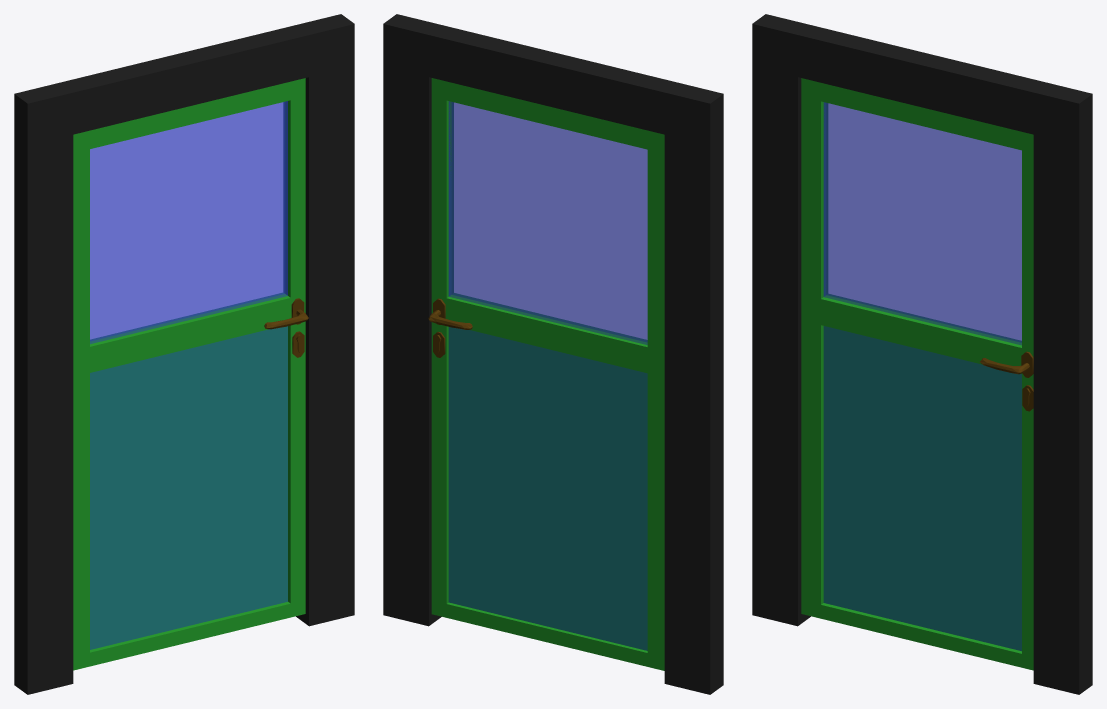
Rendered from DoorAnim.FBX.
3 views of the same model, side by side, from view 1: azimuth 30°, elevation 25°; view 2: azimuth 150°, elevation 25°; view 3: azimuth 330°, elevation 25° (orthographic).
Visible parts, largest first — view 1: DoorInnerFrame, DoorOutFrame; view 2: DoorInnerFrame, DoorOutFrame; view 3: DoorInnerFrame, DoorOutFrame.
Part boxes in pixels (left/top/right/bottom): DoorInnerFrame: left=73, top=78, right=305, bottom=670; DoorOutFrame: left=14, top=14, right=354, bottom=694; DoorInnerFrame: left=431, top=78, right=664, bottom=670; DoorOutFrame: left=383, top=14, right=723, bottom=694; DoorInnerFrame: left=801, top=78, right=1033, bottom=670; DoorOutFrame: left=752, top=14, right=1092, bottom=694.
Bounding box in the file's own units: 140 × 242 × 21.28.
